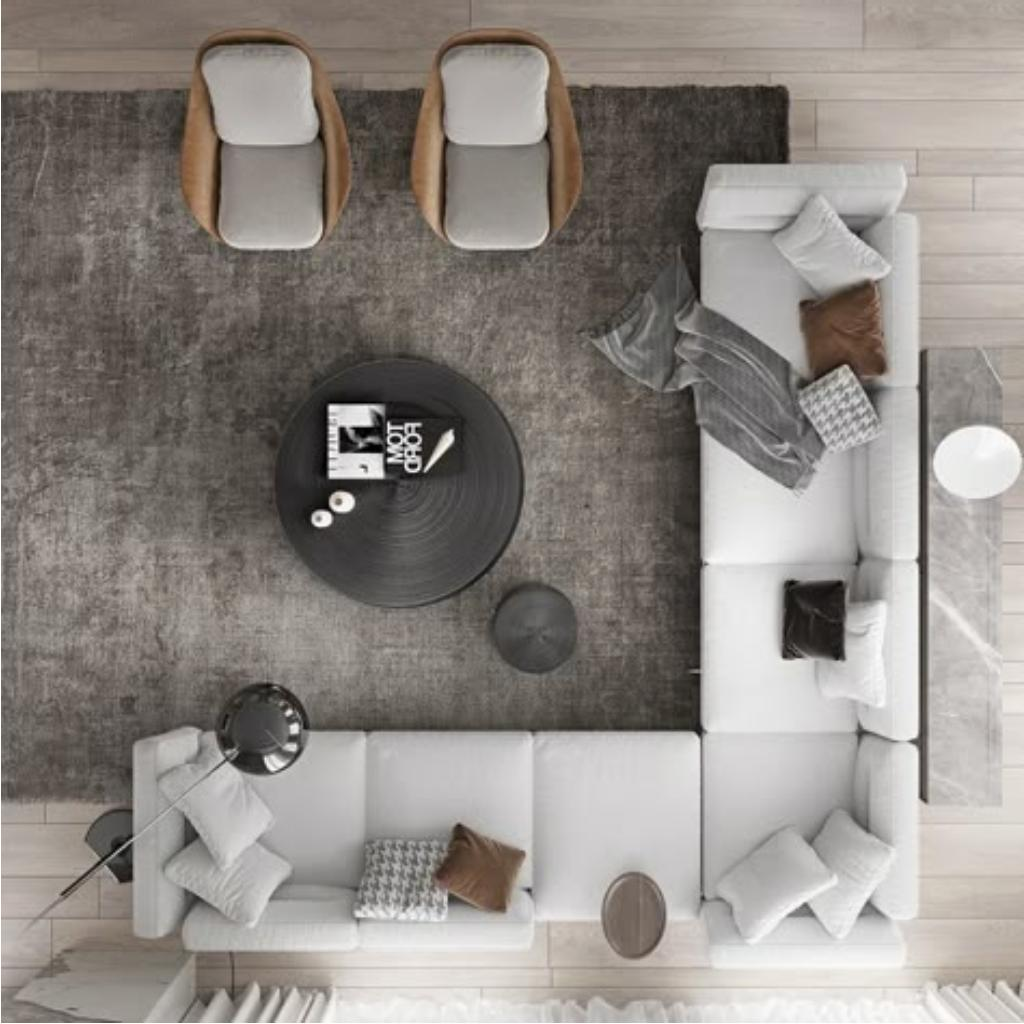chair: (407, 26, 585, 252), (176, 26, 352, 250)
coffee table: (275, 352, 509, 590)
floor lamp: (80, 814, 130, 886)
ottoman: (502, 602, 578, 672)
rug: (0, 86, 790, 804)
side table: (926, 345, 1004, 811)
sofa: (700, 160, 918, 964), (134, 727, 696, 955)
window: (610, 995, 1020, 1021), (176, 996, 604, 1020)
